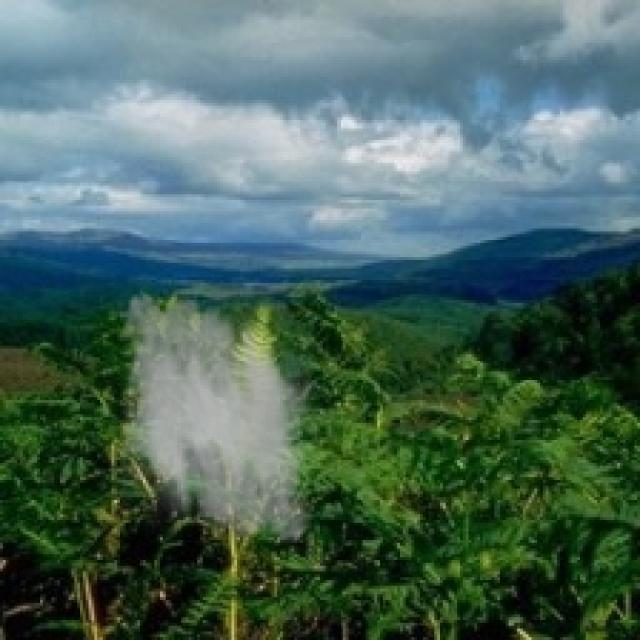smoke: (109, 283, 328, 554)
